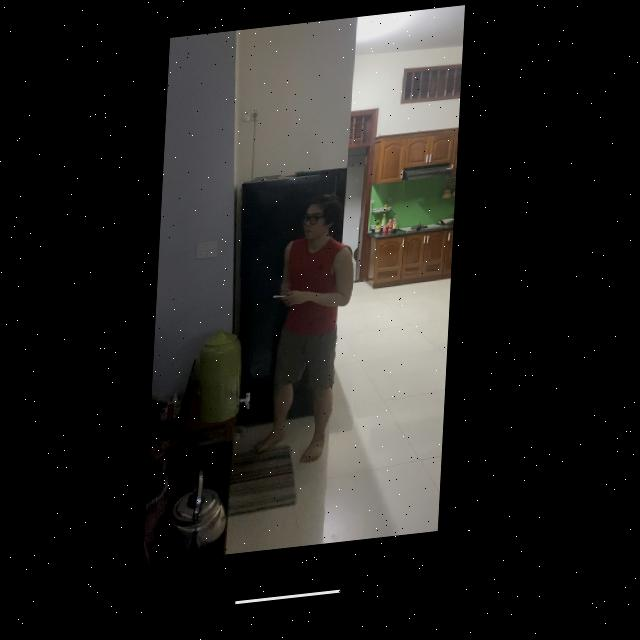cigarette: (276, 301, 290, 305)
